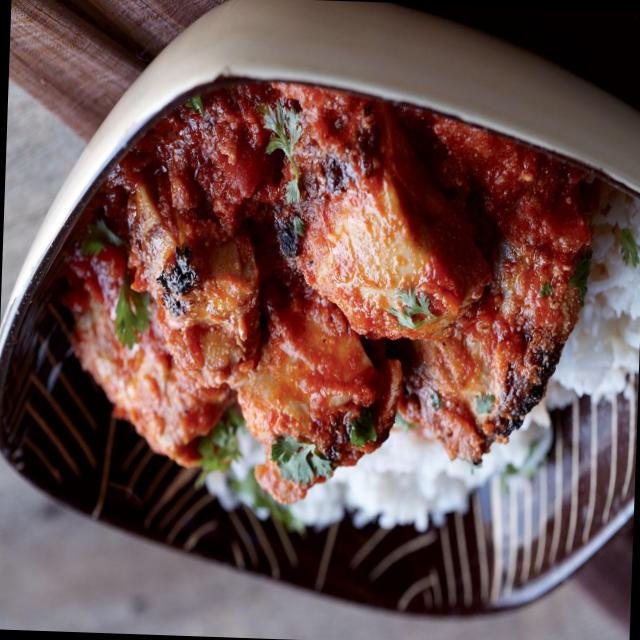chicken: (64, 84, 572, 482)
rice: (312, 433, 537, 552), (570, 180, 640, 447)
